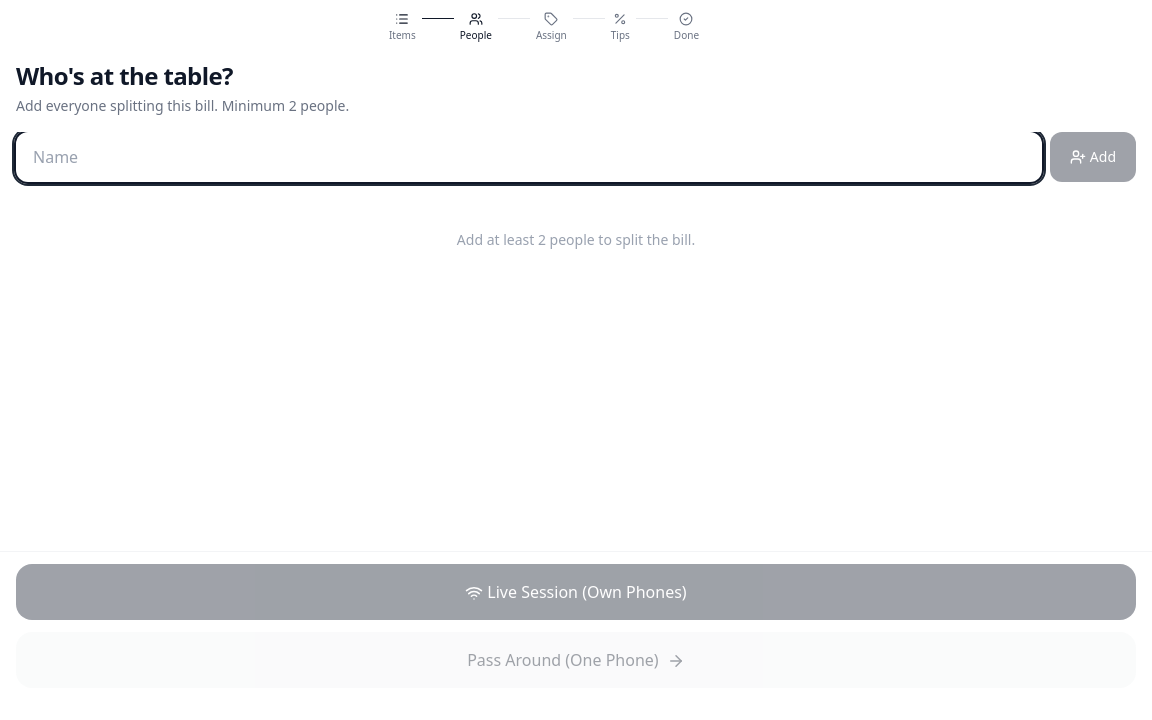
Scenario: PeopleSetupPage › adds a person when Enter is pressed in input
The width and height of the screenshot is (1152, 720).
Type "Bob" into the field named "person's name" at (529, 157), box [16,132,1042,182]
Then press Enter
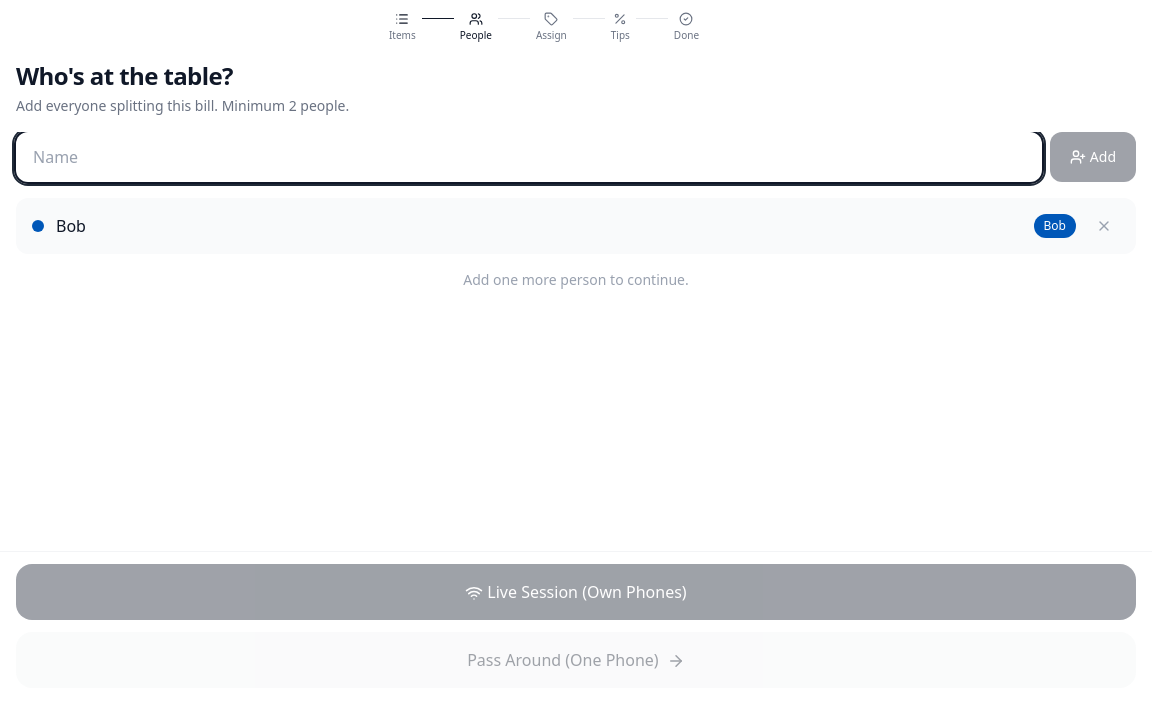
Result: the button with aria-label "edit bob" is shown at [56,214,1022,238]
